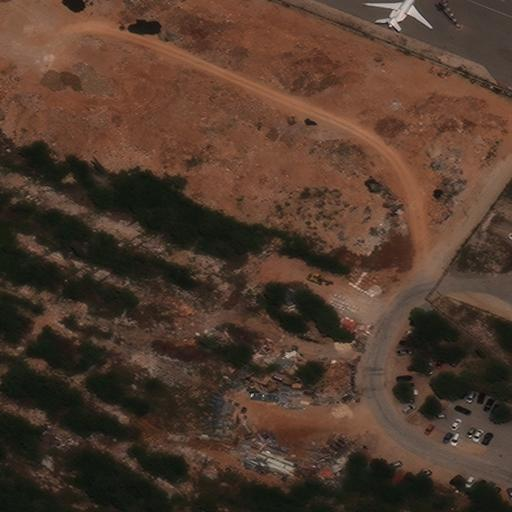Medium Civil Transport: (364, 0, 433, 27)
